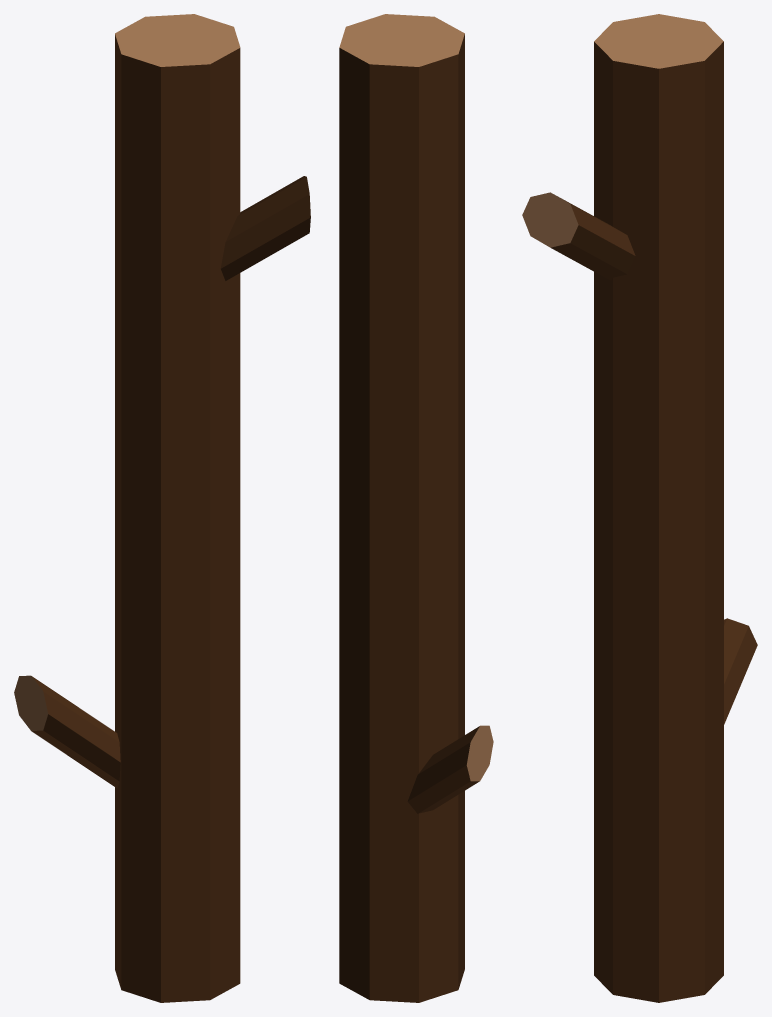
The model's file is Stick.fbx.
The picture shows the model from 3 angles, left to right: view 1: azimuth 30°, elevation 25°; view 2: azimuth 150°, elevation 25°; view 3: azimuth 270°, elevation 25°; orthographic projection.
Visible parts, largest first — view 1: Cylinder.002; view 2: Cylinder.002; view 3: Cylinder.002.
Part boxes in pixels (box(x1,y1,x2,y2)): Cylinder.002: box(14, 14, 310, 1002); Cylinder.002: box(339, 14, 493, 1002); Cylinder.002: box(522, 14, 757, 1002).
Size of the model in its own units: 73.76 by 331 by 75.74.
